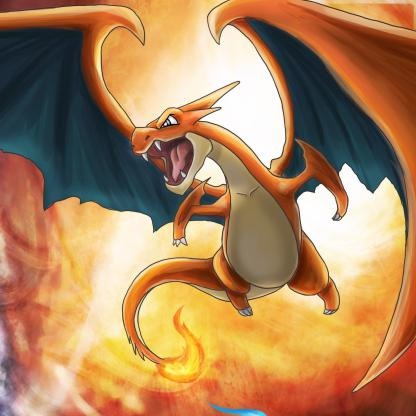Charizard: (1, 1, 416, 390)
